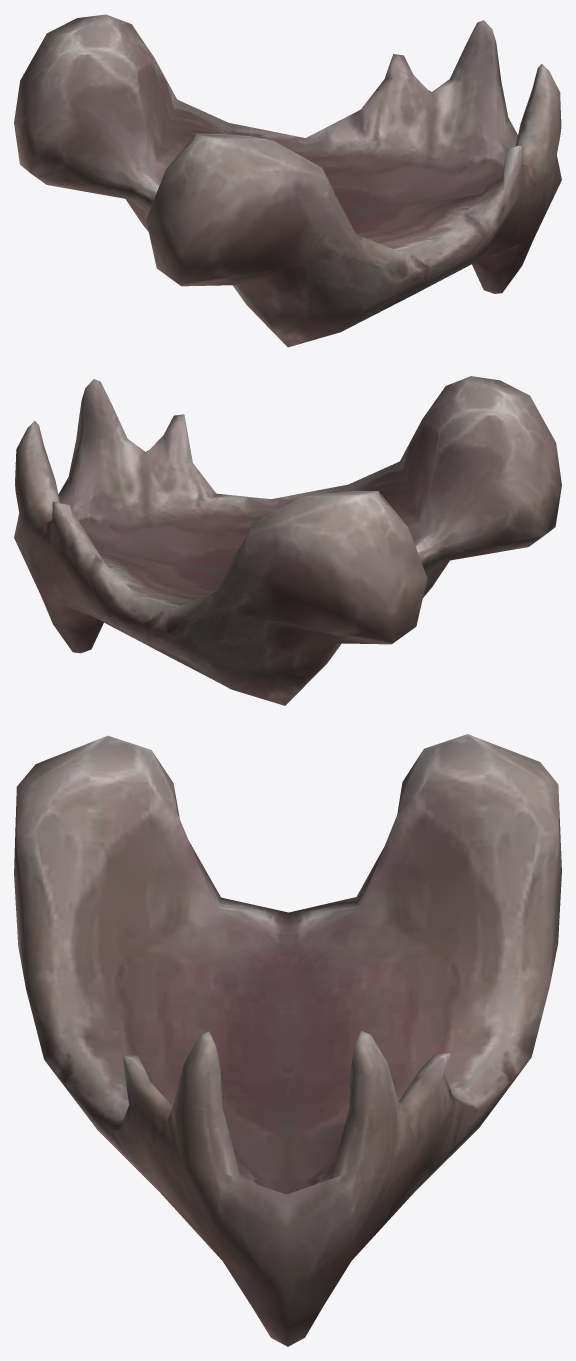
3 views of the same model, one above another, from view 1: azimuth 30°, elevation 25°; view 2: azimuth 150°, elevation 25°; view 3: azimuth 270°, elevation 25° (orthographic). The views are drawn at different scales.
Bounding box in the file's own units: 8.17 × 5.17 × 6.68.
1 material, 1 textured.
